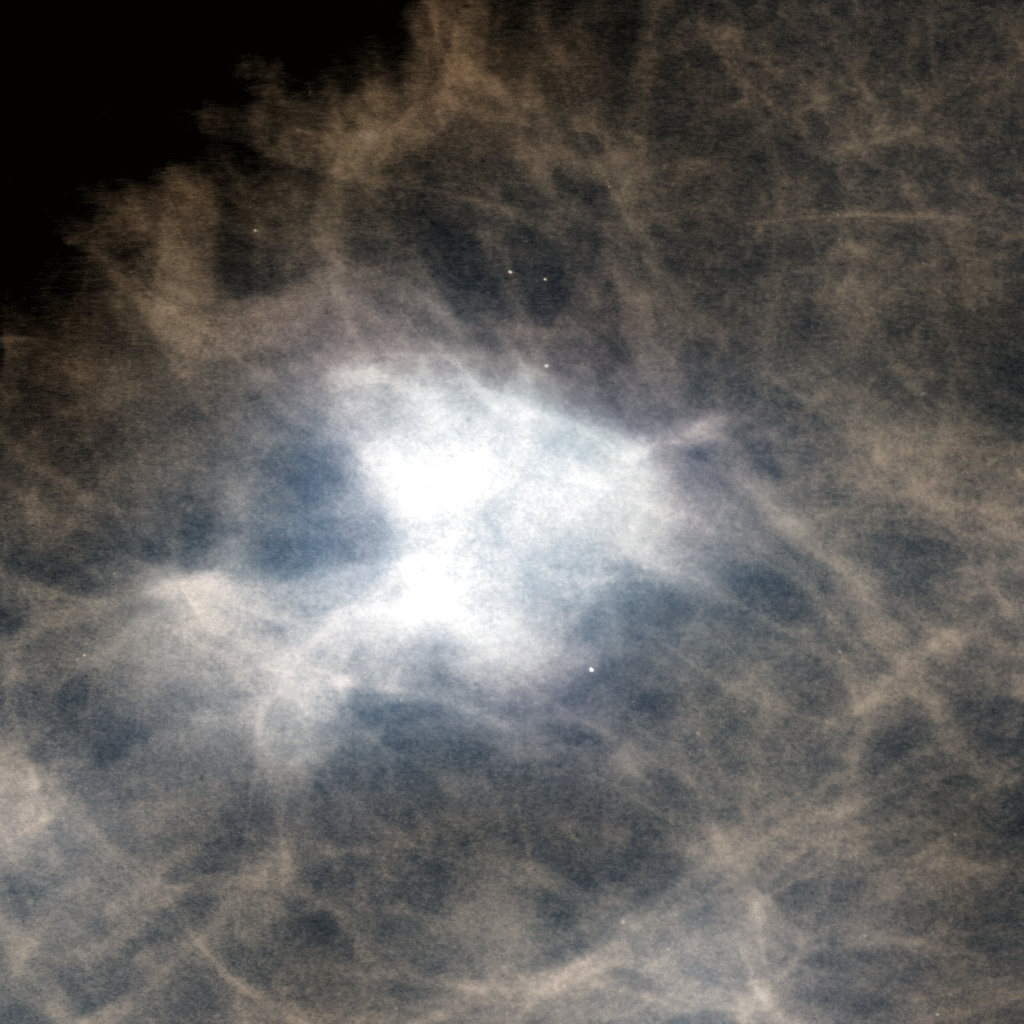tumor: (336, 346, 688, 678)
